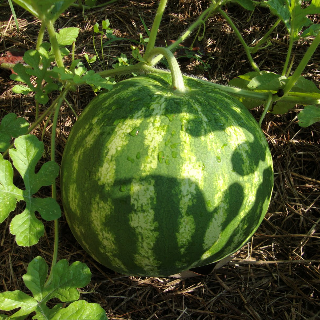dua_hau: (57, 75, 274, 280)
